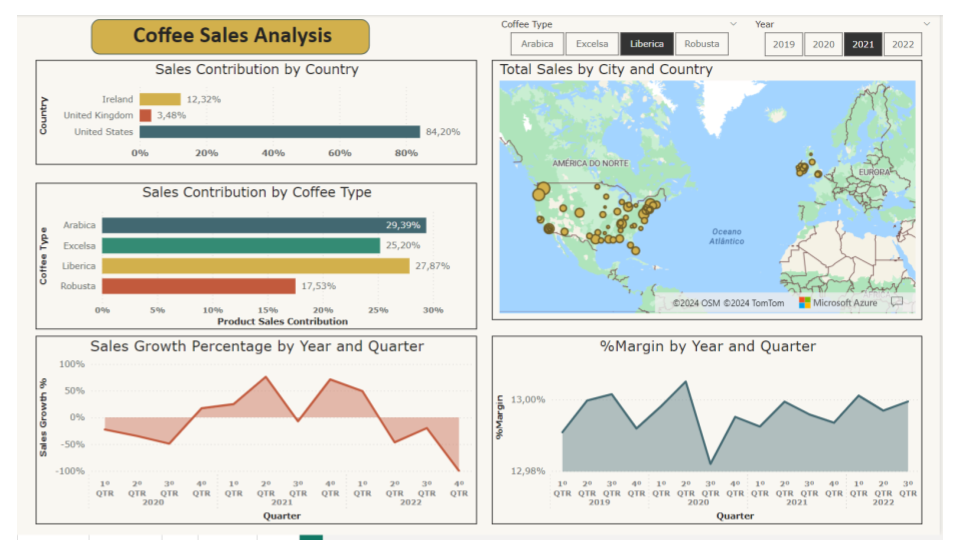

What the dashboard file says about the page in this screenshot:
{"tool":"powerbi","page":{"name":"General Sales 2","canvas":[1280,720],"ordinal":1},"visuals":[{"type":"clusteredBarChart","title":"Sales Contribution by Country","fields":{"Category":["customers.Country"],"Y":["Medidas.Region Sales Contribution"]},"box":[29,62,611,145],"z":0},{"type":"slicer","fields":{"Values":["products.Coffee Type"]},"box":[660,0,352,63],"z":1000},{"type":"slicer","fields":{"Values":["tbl_Dates.Year"]},"box":[1012,0,268,64],"z":2000},{"type":"azureMap","fields":{"Category":["customers.City","customers.Country"],"Size":["Medidas.Total Sales"]},"box":[660,62,596,360],"z":3000},{"type":"stackedAreaChart","fields":{"Y":["Medidas.%Margin"],"Category":["tbl_Dates.Year","tbl_Dates.Quarter"]},"box":[660,444,596,261],"z":4000},{"type":"shape","box":[105.6,5.6,385.6,48.9],"z":5000},{"type":"textbox","box":[142.2,2.2,317.8,60],"z":6000},{"type":"clusteredBarChart","title":"Sales Contribution by Coffee Type","fields":{"Y":["Medidas.Product Sales Contribution"],"Category":["products.Coffee Type"]},"box":[29,232,611,203],"z":7000},{"type":"stackedAreaChart","fields":{"Y":["Medidas.Sales Growth Percentage"],"Category":["tbl_Dates.Year","tbl_Dates.Quarter"]},"box":[29,444,611,261],"z":8000}]}

Visuals, with their boxes in screenshot pixels (x1, y1, x2, y2), scaled from the page's 1280x720 canvas onto the 960x540 screenshot:
"Sales Contribution by Country" clusteredBarChart: detection(22, 46, 480, 155)
slicer - products.Coffee Type: detection(495, 0, 759, 47)
slicer - tbl_Dates.Year: detection(759, 0, 959, 48)
azureMap - customers.City x customers.Country: detection(495, 46, 942, 316)
stackedAreaChart - Medidas.%Margin x tbl_Dates.Year: detection(495, 333, 942, 529)
shape: detection(79, 4, 368, 41)
textbox: detection(107, 2, 345, 47)
"Sales Contribution by Coffee Type" clusteredBarChart: detection(22, 174, 480, 326)
stackedAreaChart - Medidas.Sales Growth Percentage x tbl_Dates.Year: detection(22, 333, 480, 529)
